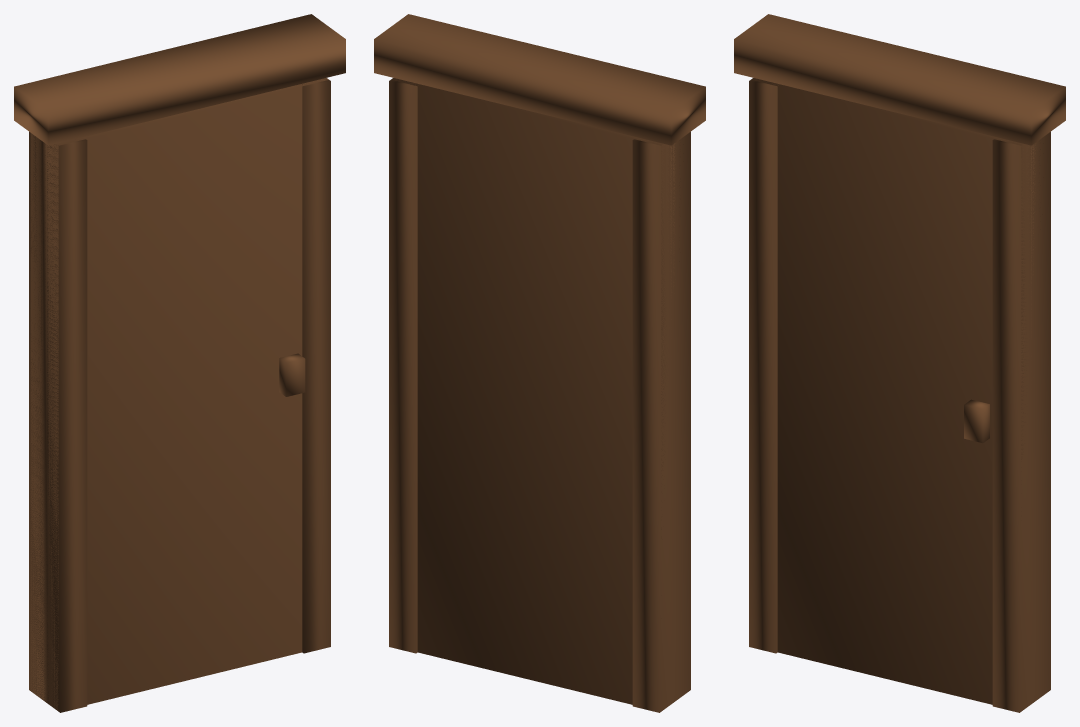
The model's file is door.obj.
The picture shows the model from 3 angles, left to right: view 1: azimuth 30°, elevation 25°; view 2: azimuth 150°, elevation 25°; view 3: azimuth 330°, elevation 25°; orthographic projection.
Size of the model in its own units: 2.2 by 4.28 by 0.49.
